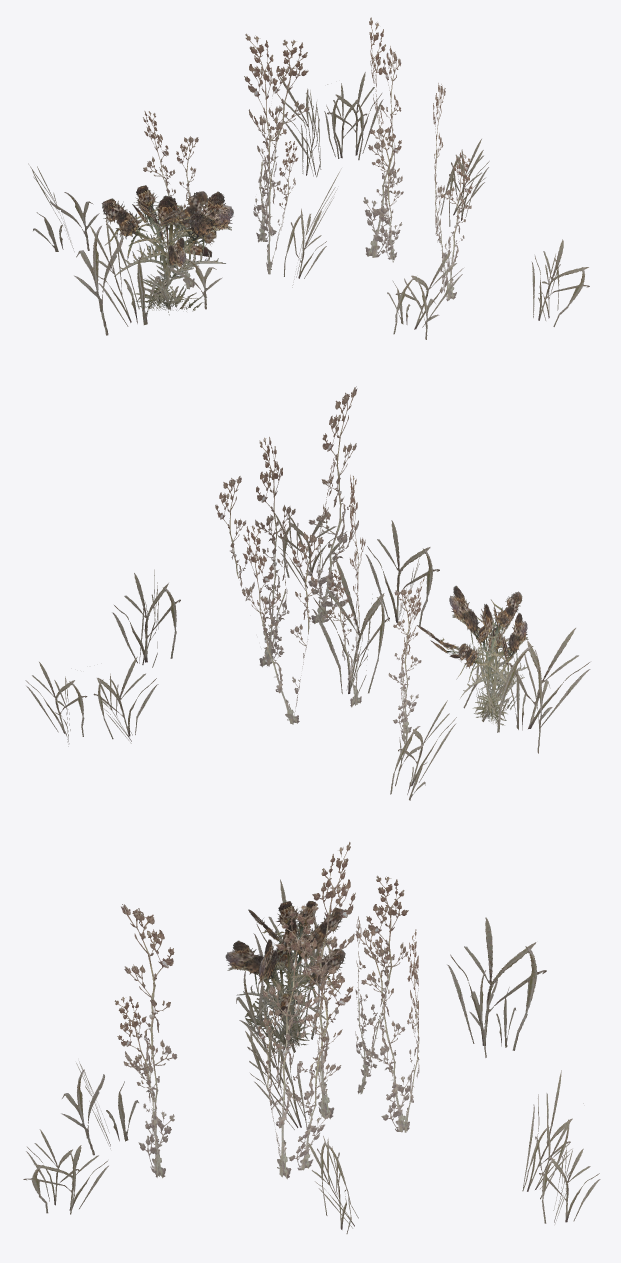
Rendered from prop_dryweed_002_a.FBX.
The picture shows the model from 3 angles, top to bottom: view 1: azimuth 30°, elevation 25°; view 2: azimuth 150°, elevation 25°; view 3: azimuth 270°, elevation 25°; orthographic projection. The views are drawn at different scales.
Parts seen in each view (by area): view 1: prop_dryweed_002_a; view 2: prop_dryweed_002_a; view 3: prop_dryweed_002_a.
Part boxes in pixels (box(x1,y1,x2,y2)): prop_dryweed_002_a: box(28, 17, 589, 339); prop_dryweed_002_a: box(25, 386, 590, 800); prop_dryweed_002_a: box(23, 842, 600, 1233).
Bounding box in the file's own units: 1.9 × 1.88 × 1.05.
Materials: 1 (1 with a texture image).
